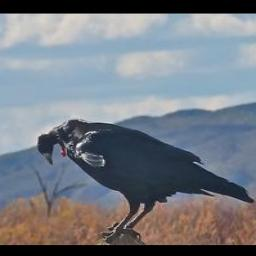Crow: (36, 117, 256, 242)
